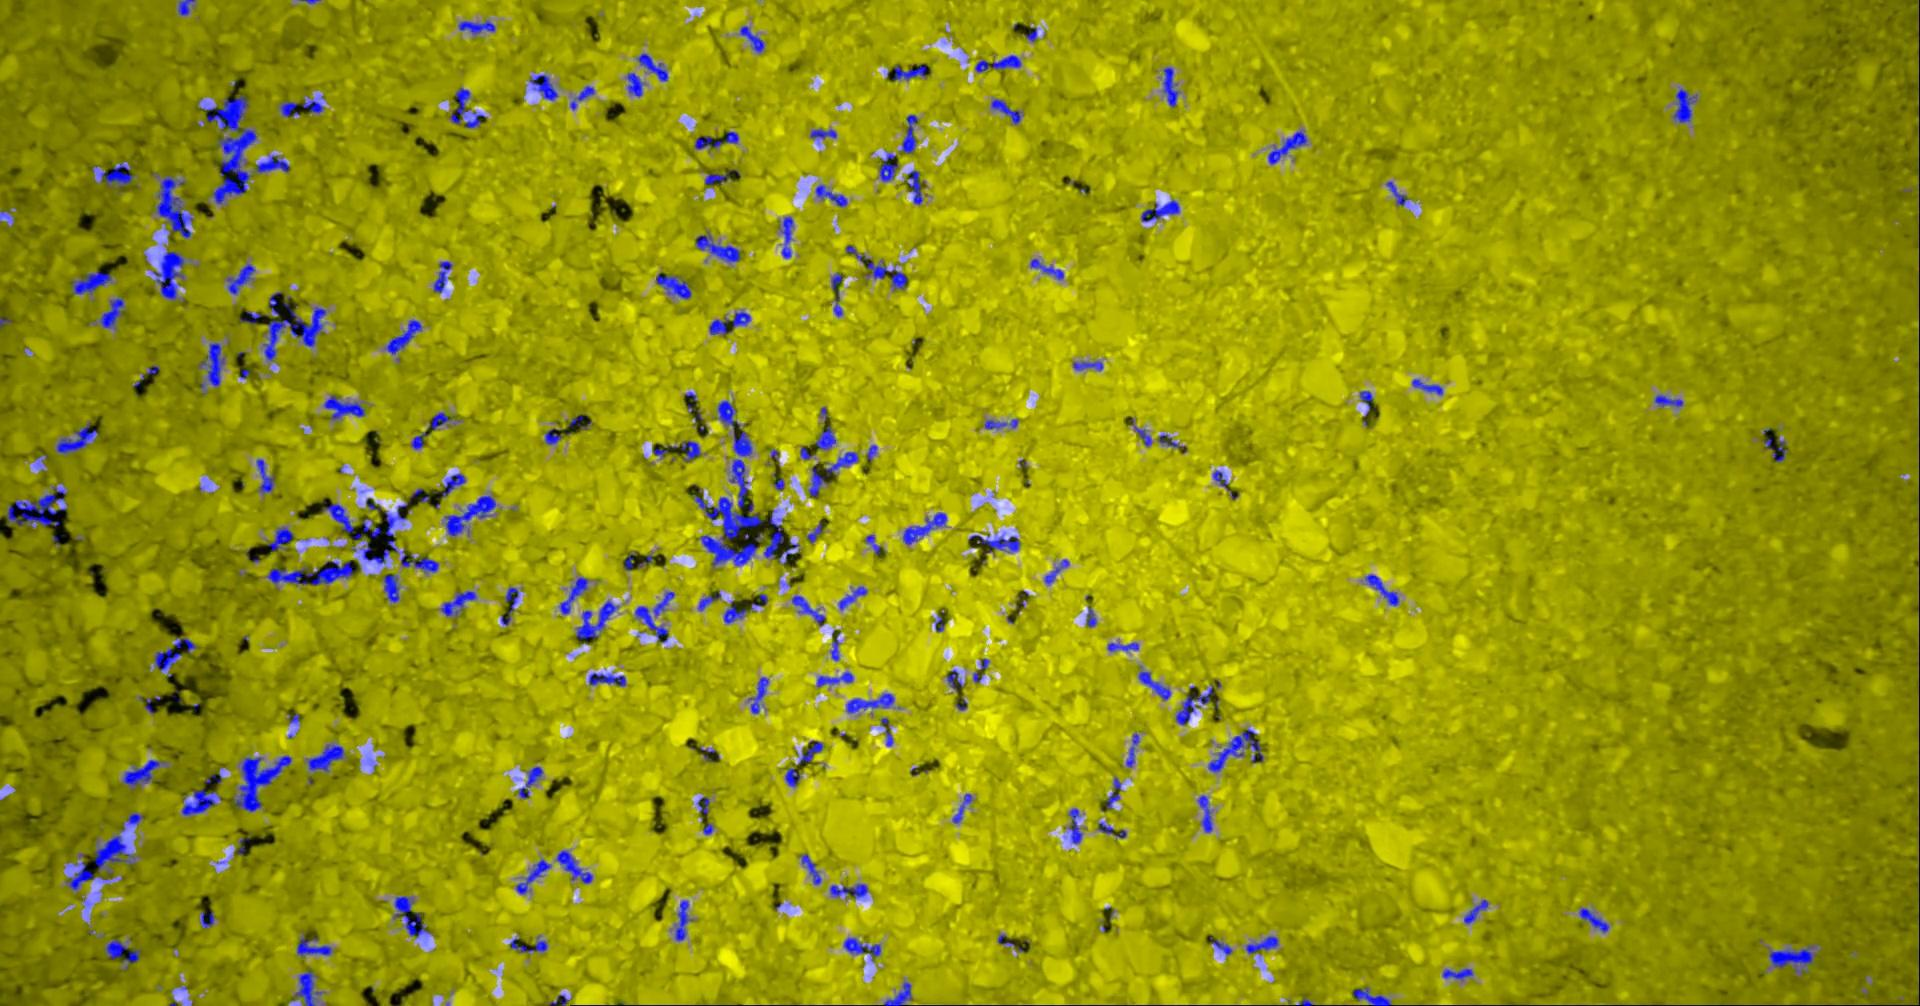ant: (362, 502, 408, 563), (844, 245, 907, 290), (5, 486, 65, 526), (1208, 729, 1263, 771), (265, 560, 356, 586), (156, 177, 192, 238), (634, 591, 674, 641), (444, 495, 495, 535), (763, 509, 799, 564), (575, 600, 618, 643), (1175, 683, 1213, 724), (392, 895, 429, 937), (321, 500, 361, 539), (152, 251, 184, 298), (93, 835, 135, 870), (902, 512, 946, 544), (154, 636, 196, 669), (56, 422, 98, 453), (385, 319, 422, 354), (1267, 130, 1305, 164), (695, 234, 740, 260), (516, 859, 551, 893), (556, 850, 592, 883), (122, 760, 164, 788), (1768, 946, 1813, 972), (198, 342, 223, 386), (1364, 574, 1398, 605), (791, 594, 825, 625), (651, 439, 700, 461), (559, 577, 587, 614), (323, 395, 364, 419), (99, 161, 133, 191), (968, 533, 1018, 553), (709, 311, 750, 334), (307, 744, 343, 771), (439, 589, 476, 615), (182, 789, 216, 815), (295, 970, 321, 1005), (655, 273, 691, 298), (71, 271, 110, 293), (846, 694, 893, 713), (1138, 671, 1170, 699), (636, 53, 667, 81), (843, 937, 880, 960), (1672, 88, 1697, 122), (1140, 199, 1178, 221), (400, 550, 438, 572), (974, 55, 1020, 72), (66, 861, 94, 889), (227, 264, 254, 293), (695, 131, 738, 149), (747, 677, 768, 713), (530, 74, 557, 100), (990, 98, 1020, 123), (1578, 907, 1608, 932), (824, 451, 858, 473), (518, 766, 542, 796), (450, 86, 469, 124), (296, 936, 331, 956), (1030, 258, 1063, 279), (436, 473, 465, 497), (1352, 987, 1390, 1005), (100, 297, 123, 326), (815, 184, 846, 206), (500, 587, 518, 624), (674, 901, 691, 940), (808, 464, 828, 495), (739, 25, 763, 52), (838, 586, 866, 608), (723, 600, 750, 622), (883, 982, 910, 1005), (800, 854, 820, 884), (569, 85, 594, 109), (1044, 559, 1068, 584), (907, 170, 924, 205), (257, 459, 274, 493), (1163, 66, 1178, 105), (1244, 935, 1277, 953), (1463, 899, 1487, 923), (902, 114, 917, 152), (267, 527, 292, 550), (952, 793, 971, 823), (829, 883, 867, 898), (891, 64, 926, 80), (255, 155, 290, 171), (433, 260, 451, 292), (1385, 180, 1408, 205), (797, 741, 822, 763), (703, 169, 739, 184), (817, 671, 852, 686), (780, 216, 792, 258), (509, 937, 547, 951), (622, 553, 651, 570), (1197, 795, 1211, 832), (830, 272, 842, 316), (879, 152, 897, 180), (1359, 390, 1373, 426), (1158, 434, 1186, 452), (1764, 438, 1785, 461), (105, 937, 128, 959), (1411, 379, 1443, 394), (588, 673, 625, 686), (815, 426, 836, 448), (697, 589, 720, 610), (458, 20, 494, 33), (1068, 808, 1081, 843), (1125, 733, 1138, 767), (383, 574, 399, 602), (427, 412, 450, 429), (971, 658, 988, 682), (1209, 936, 1230, 954), (627, 72, 643, 97), (1133, 426, 1150, 446), (463, 111, 485, 127), (863, 533, 880, 555), (138, 696, 160, 713), (1655, 394, 1683, 406), (880, 716, 891, 746), (1443, 968, 1472, 979), (946, 669, 961, 691), (568, 415, 590, 429), (411, 431, 429, 448), (830, 630, 841, 661), (1107, 641, 1138, 652), (808, 521, 822, 542), (984, 419, 1017, 428), (543, 428, 561, 445), (177, 0, 196, 15), (279, 102, 298, 117), (1211, 470, 1227, 489), (302, 98, 323, 112), (239, 311, 260, 324), (232, 837, 249, 854), (1072, 361, 1102, 370), (783, 768, 799, 786), (810, 128, 836, 138), (204, 768, 221, 784), (122, 948, 138, 963), (201, 909, 215, 927), (1105, 791, 1119, 808), (126, 812, 143, 824), (1086, 606, 1096, 626), (697, 796, 709, 814), (549, 995, 568, 1005), (1097, 822, 1112, 833)
